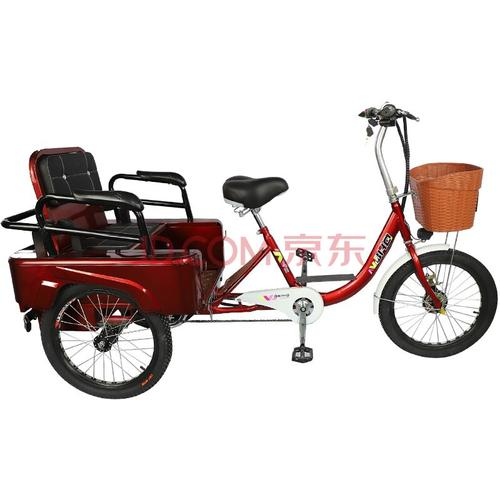empty: (6, 103, 491, 404)
